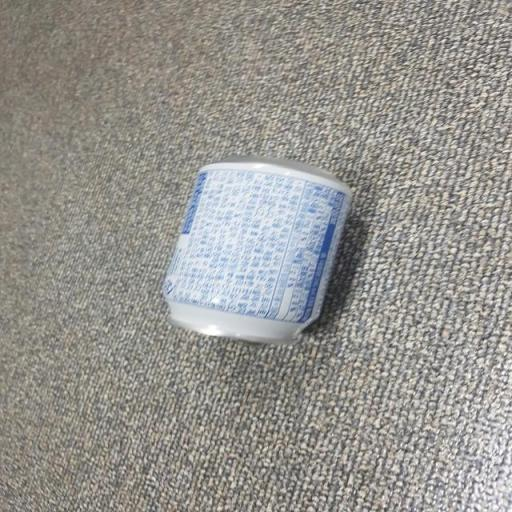metal: (145, 152, 362, 358)
